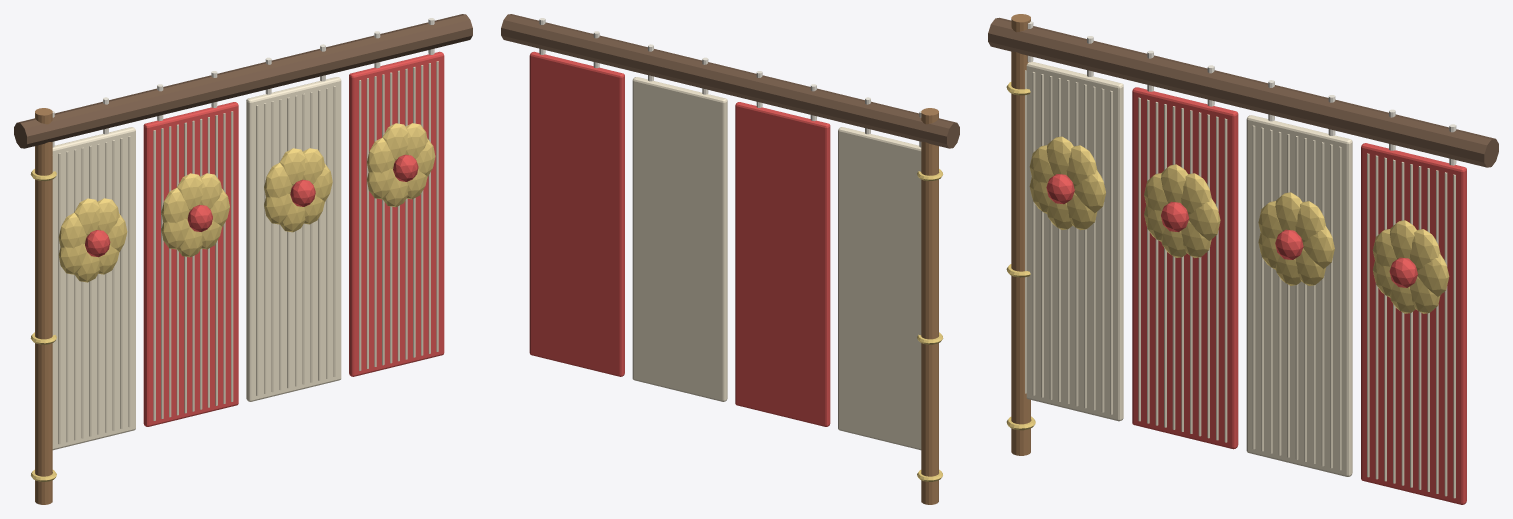
File: stage_noren_festival.glb
3 renders of one model, left to right at view 1: azimuth 30°, elevation 25°; view 2: azimuth 150°, elevation 25°; view 3: azimuth 330°, elevation 25°, orthographic. The views are drawn at different scales.
Visible parts, largest first — view 1: Individual noren dyed panelcloth.003, Individual noren dyed panelcloth.001, Individual noren dyed panelcloth.002, Individual noren dyed panelcloth, Actual curtain rod, Festival noren silk curtain hanging rod, Individual noren dyed panel_stitch11, Individual noren dyed panel_stitch1.001, Individual noren dyed panel_stitch1.002, Individual noren dyed panel_stitch1.003, Individual noren dyed panel_stitch11.001, Individual noren dyed panel_stitch11.003 (+57 smaller); view 2: Individual noren dyed panelcloth.001, Individual noren dyed panelcloth.002, Individual noren dyed panelcloth.003, Individual noren dyed panelcloth, Actual curtain rod, Festival noren silk curtain hanging rod; view 3: Individual noren dyed panelcloth.002, Individual noren dyed panelcloth.001, Individual noren dyed panelcloth.003, Individual noren dyed panelcloth, Actual curtain rod, Festival noren silk curtain hanging rod, Individual noren dyed panel_stitch1.002, Individual noren dyed panel_stitch11.001, Individual noren dyed panel_stitch10, Individual noren dyed panel_stitch10.003, Individual noren dyed panel_stitch2.003, Individual noren dyed panel_stitch2 (+62 smaller).
Boxes of the visible parts, x1=… form: Individual noren dyed panelcloth.003: x1=349, y1=51, x2=444, y2=376; Individual noren dyed panelcloth.001: x1=143, y1=102, x2=238, y2=426; Individual noren dyed panelcloth.002: x1=246, y1=77, x2=341, y2=401; Individual noren dyed panelcloth: x1=52, y1=127, x2=135, y2=450; Actual curtain rod: x1=14, y1=14, x2=472, y2=148; Festival noren silk curtain hanging rod: x1=35, y1=108, x2=52, y2=504; Individual noren dyed panel_stitch11: x1=128, y1=136, x2=130, y2=427; Individual noren dyed panel_stitch1.001: x1=153, y1=130, x2=155, y2=420; Individual noren dyed panel_stitch1.002: x1=256, y1=105, x2=258, y2=395; Individual noren dyed panel_stitch1.003: x1=359, y1=80, x2=361, y2=370; Individual noren dyed panel_stitch11.001: x1=231, y1=111, x2=233, y2=401; Individual noren dyed panel_stitch11.003: x1=436, y1=61, x2=438, y2=351; Individual noren dyed panelcloth.001: x1=735, y1=102, x2=830, y2=426; Individual noren dyed panelcloth.002: x1=632, y1=77, x2=727, y2=401; Individual noren dyed panelcloth.003: x1=529, y1=51, x2=624, y2=376; Individual noren dyed panelcloth: x1=838, y1=127, x2=921, y2=450; Actual curtain rod: x1=501, y1=14, x2=959, y2=148; Festival noren silk curtain hanging rod: x1=921, y1=108, x2=938, y2=504; Individual noren dyed panelcloth.002: x1=1246, y1=115, x2=1352, y2=476; Individual noren dyed panelcloth.001: x1=1132, y1=87, x2=1238, y2=449; Individual noren dyed panelcloth.003: x1=1361, y1=143, x2=1466, y2=504; Individual noren dyed panelcloth: x1=1026, y1=61, x2=1123, y2=421; Actual curtain rod: x1=988, y1=17, x2=1498, y2=167; Festival noren silk curtain hanging rod: x1=1011, y1=14, x2=1030, y2=455; Individual noren dyed panel_stitch1.002: x1=1252, y1=125, x2=1255, y2=449; Individual noren dyed panel_stitch11.001: x1=1224, y1=118, x2=1227, y2=442; Individual noren dyed panel_stitch10: x1=1101, y1=88, x2=1104, y2=412; Individual noren dyed panel_stitch10.003: x1=1444, y1=172, x2=1447, y2=496; Individual noren dyed panel_stitch2.003: x1=1375, y1=155, x2=1378, y2=479; Individual noren dyed panel_stitch2: x1=1032, y1=72, x2=1035, y2=395.
Size of the model in its own units: 1.95 by 1.63 by 0.1619.
